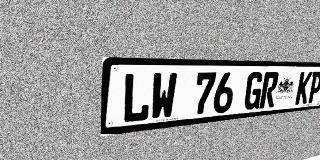6: (212, 72, 236, 114)
7: (192, 72, 217, 116)
G: (243, 72, 264, 110)
K: (295, 72, 313, 105)
L: (122, 73, 152, 124)
P: (307, 72, 320, 103)
R: (259, 72, 280, 109)
W: (150, 73, 178, 121)
